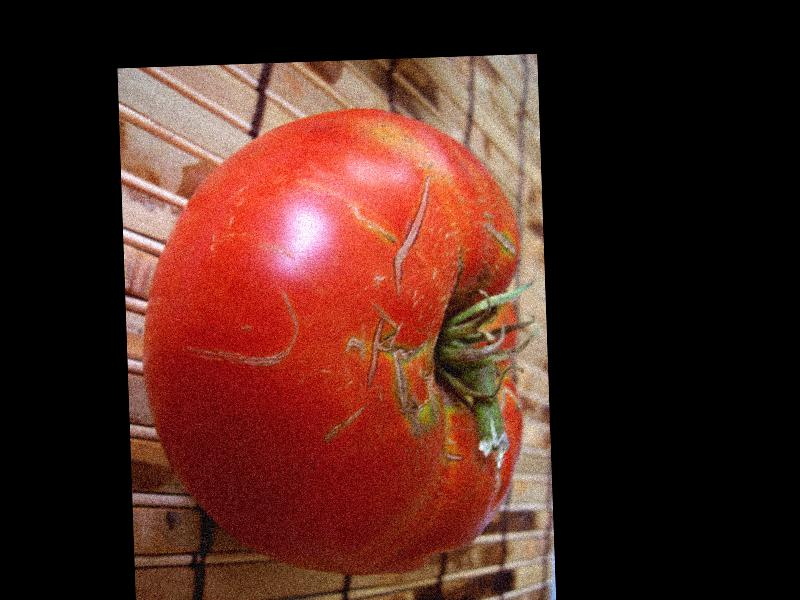Tomato: (141, 104, 532, 581)
